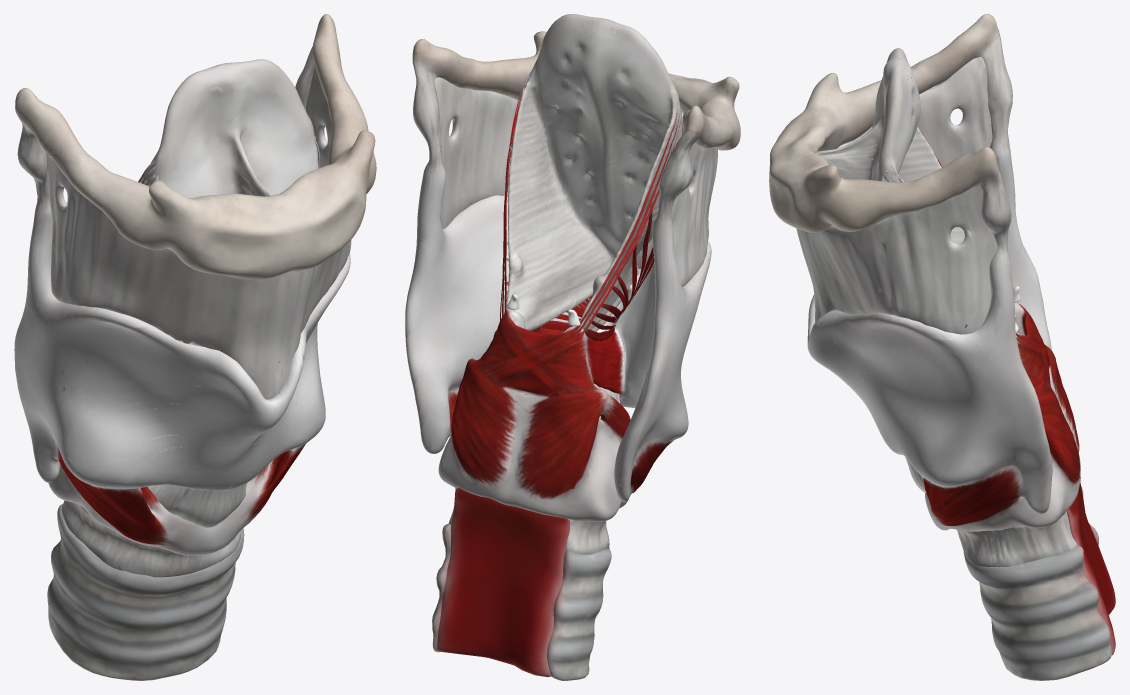
Rendered from larynx-anatomy.glb.
3 views of the same model, side by side, from view 1: azimuth 30°, elevation 25°; view 2: azimuth 150°, elevation 25°; view 3: azimuth 270°, elevation 25° (orthographic). The views are drawn at different scales.
Visible parts, largest first — view 1: larynx-anatomy-02, larynx-anatomy-03, larynx-anatomy-05, larynx-anatomy-01, larynx-anatomy-09, larynx-anatomy-07, larynx-anatomy-06; view 2: larynx-anatomy-02, larynx-anatomy-03, larynx-anatomy-09, larynx-anatomy-01, larynx-anatomy-05, larynx-anatomy-10, larynx-anatomy-04, larynx-anatomy-07; view 3: larynx-anatomy-02, larynx-anatomy-03, larynx-anatomy-05, larynx-anatomy-01, larynx-anatomy-09, larynx-anatomy-07.
Boxes of the visible parts, left/top/right/bottom form: larynx-anatomy-02: left=14, top=14, right=353, bottom=490; larynx-anatomy-03: left=15, top=17, right=376, bottom=490; larynx-anatomy-05: left=46, top=66, right=351, bottom=399; larynx-anatomy-01: left=47, top=504, right=244, bottom=680; larynx-anatomy-09: left=48, top=437, right=305, bottom=555; larynx-anatomy-07: left=61, top=500, right=241, bottom=577; larynx-anatomy-06: left=147, top=448, right=247, bottom=527; larynx-anatomy-02: left=405, top=14, right=740, bottom=501; larynx-anatomy-03: left=405, top=17, right=740, bottom=501; larynx-anatomy-09: left=438, top=308, right=673, bottom=521; larynx-anatomy-01: left=432, top=488, right=611, bottom=680; larynx-anatomy-05: left=434, top=77, right=717, bottom=286; larynx-anatomy-10: left=500, top=68, right=681, bottom=337; larynx-anatomy-04: left=504, top=88, right=684, bottom=341; larynx-anatomy-07: left=448, top=488, right=609, bottom=554; larynx-anatomy-02: left=807, top=33, right=1052, bottom=513; larynx-anatomy-03: left=769, top=14, right=1052, bottom=513; larynx-anatomy-05: left=796, top=57, right=997, bottom=334; larynx-anatomy-01: left=963, top=483, right=1115, bottom=680; larynx-anatomy-09: left=907, top=302, right=1080, bottom=531; larynx-anatomy-07: left=957, top=511, right=1077, bottom=567.
Bounding box in the file's own units: 1.01 × 2 × 1.05.
Materials: 9 (8 with a texture image).
